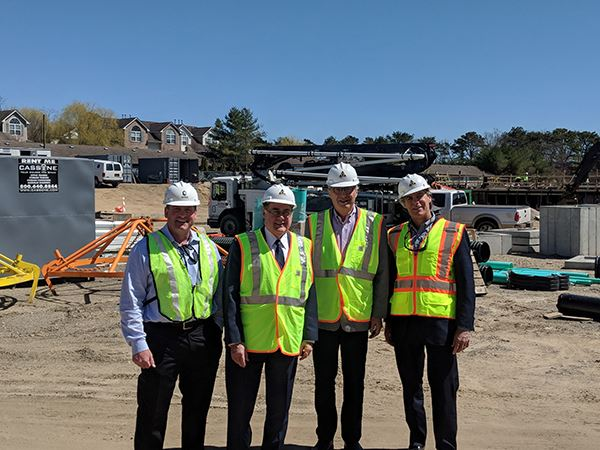Helmet: (390, 170, 442, 224), (318, 160, 363, 219), (258, 181, 298, 236), (161, 177, 203, 229)
Reflective vest: (230, 226, 315, 360), (306, 205, 385, 326), (386, 220, 473, 321), (142, 224, 221, 328)
